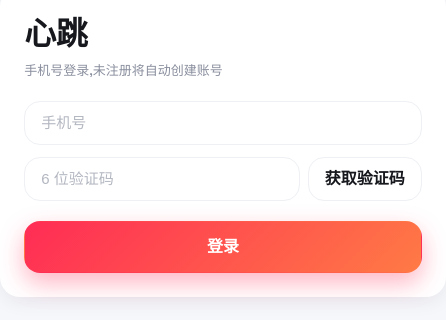
Test case: LoginPage › 发码成功后进入 60 秒倒计时且按钮禁用
The image size is (446, 320).
Type "13800000001" into the field with placeholder "手机号" at [223, 123], box [24,101,422,145]
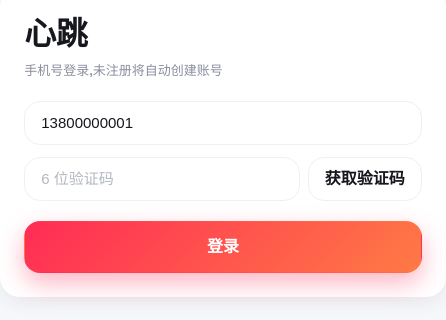
Click the button with class "login__send" at [365, 179], box [308,157,422,201]
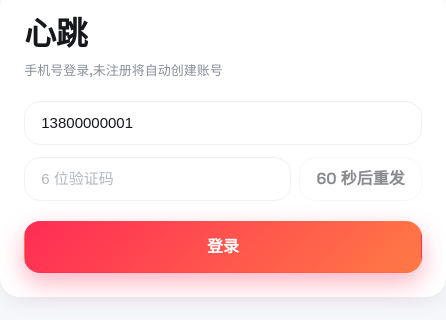
Expected: the button with class "login__send" shows "秒后重发", [299,157,422,201]
Expected: the button with class "login__send" is disabled, [299,157,422,201]
